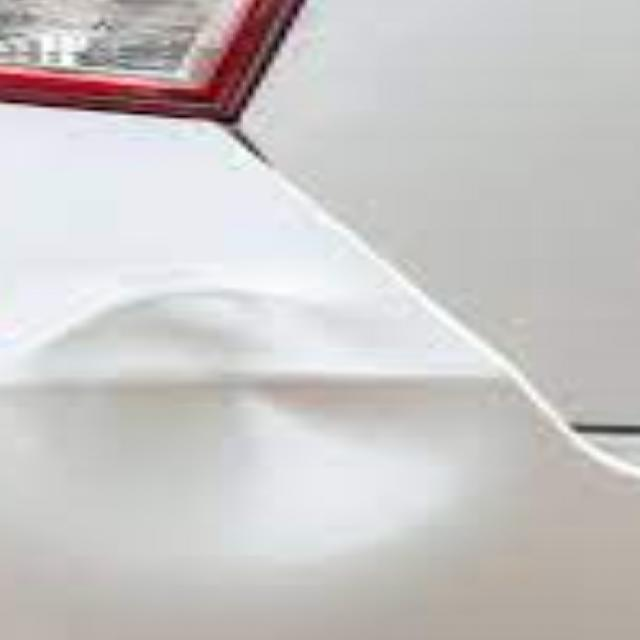dents: (7, 268, 460, 570)
